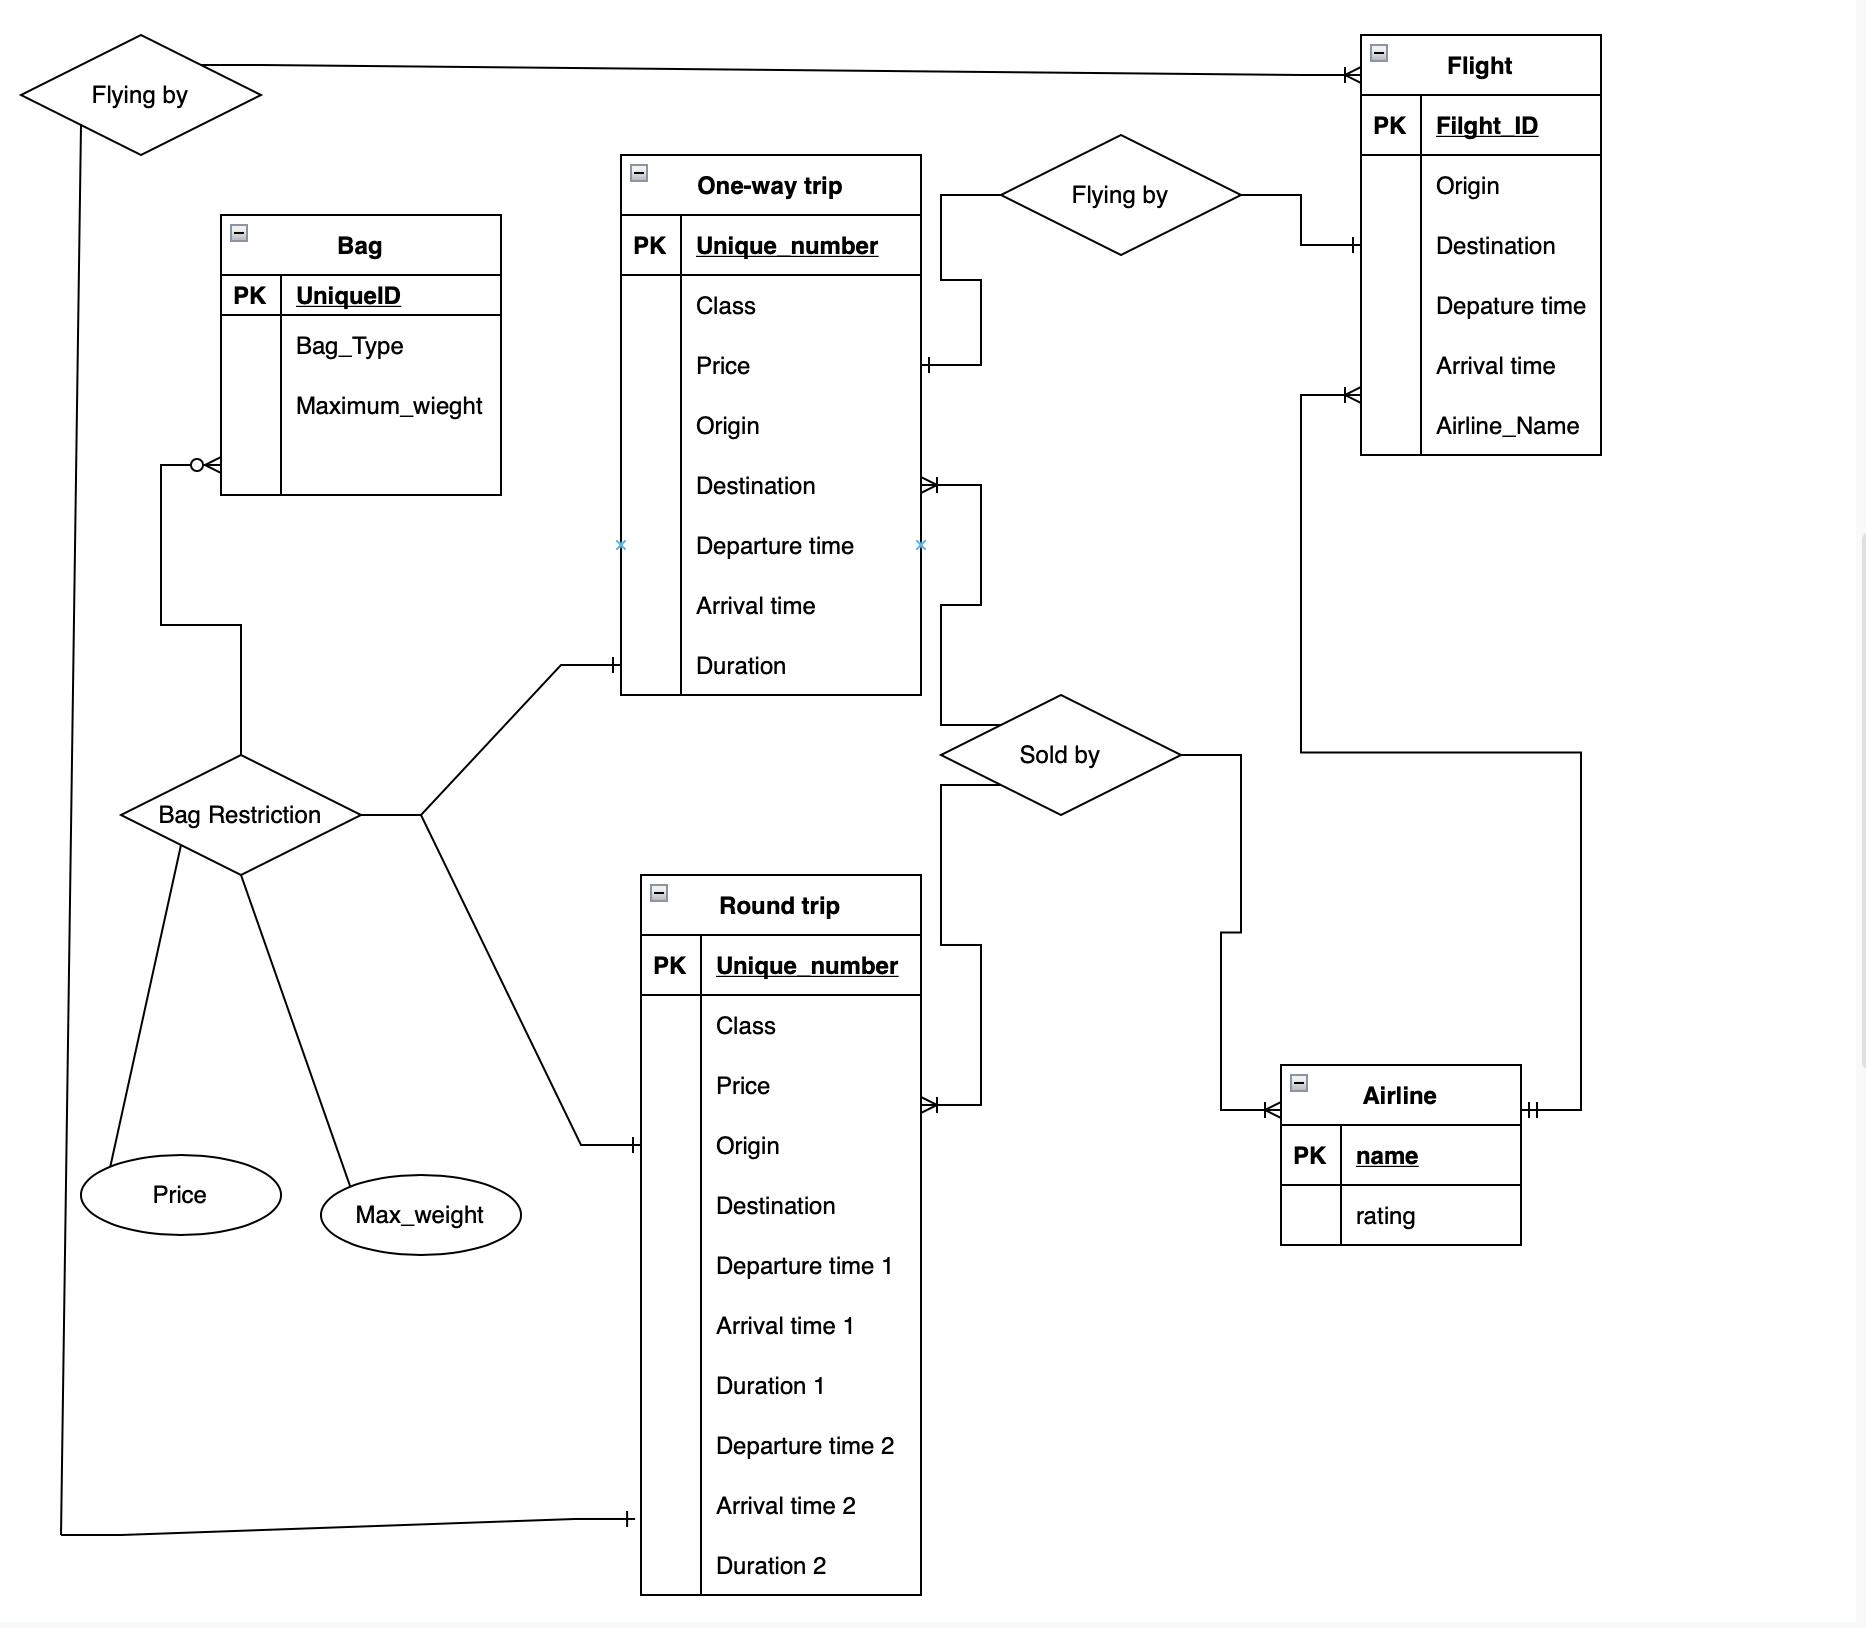attribute: (81, 1150, 282, 1238), (317, 1173, 520, 1258)
entity: (635, 866, 928, 1598), (616, 144, 928, 705), (1353, 29, 1611, 465), (214, 213, 505, 500), (1274, 1054, 1530, 1249)
relationship: (938, 697, 1181, 817), (1004, 135, 1249, 252), (25, 36, 260, 156), (121, 758, 360, 868)
